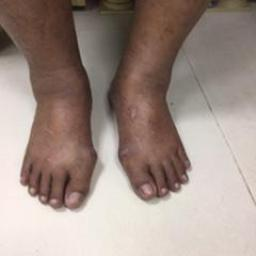Dorsal View -Both Feet-: (14, 66, 204, 221)
